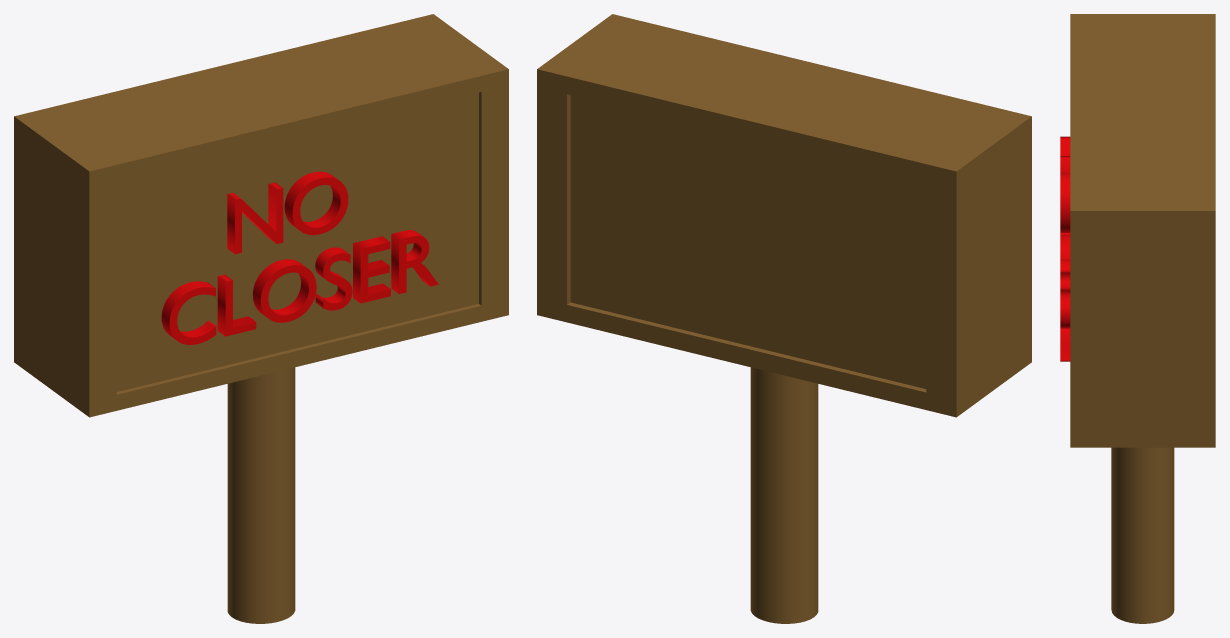
File: NoCloserSign.fbx
3 renders of one model, left to right at view 1: azimuth 30°, elevation 25°; view 2: azimuth 150°, elevation 25°; view 3: azimuth 270°, elevation 25°, orthographic. The views are drawn at different scales.
Parts seen in each view (by area): view 1: Cube, Cylinder, Text; view 2: Cube, Cylinder; view 3: Cube, Cylinder, Text.
Part boxes in pixels (x1=…): Cube: x1=14, y1=14, x2=508, y2=417; Cylinder: x1=227, y1=367, x2=295, y2=623; Text: x1=161, y1=171, x2=438, y2=344; Cube: x1=537, y1=14, x2=1031, y2=417; Cylinder: x1=750, y1=367, x2=818, y2=623; Cube: x1=1070, y1=14, x2=1215, y2=447; Cylinder: x1=1111, y1=447, x2=1174, y2=623; Text: x1=1060, y1=136, x2=1070, y2=361.
Size of the model in its own units: 320 by 378 by 107.
